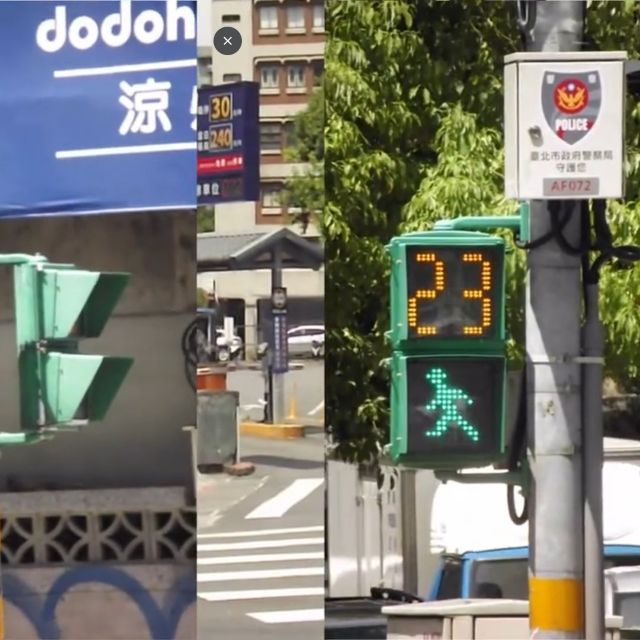green_light: (389, 238, 502, 462)
